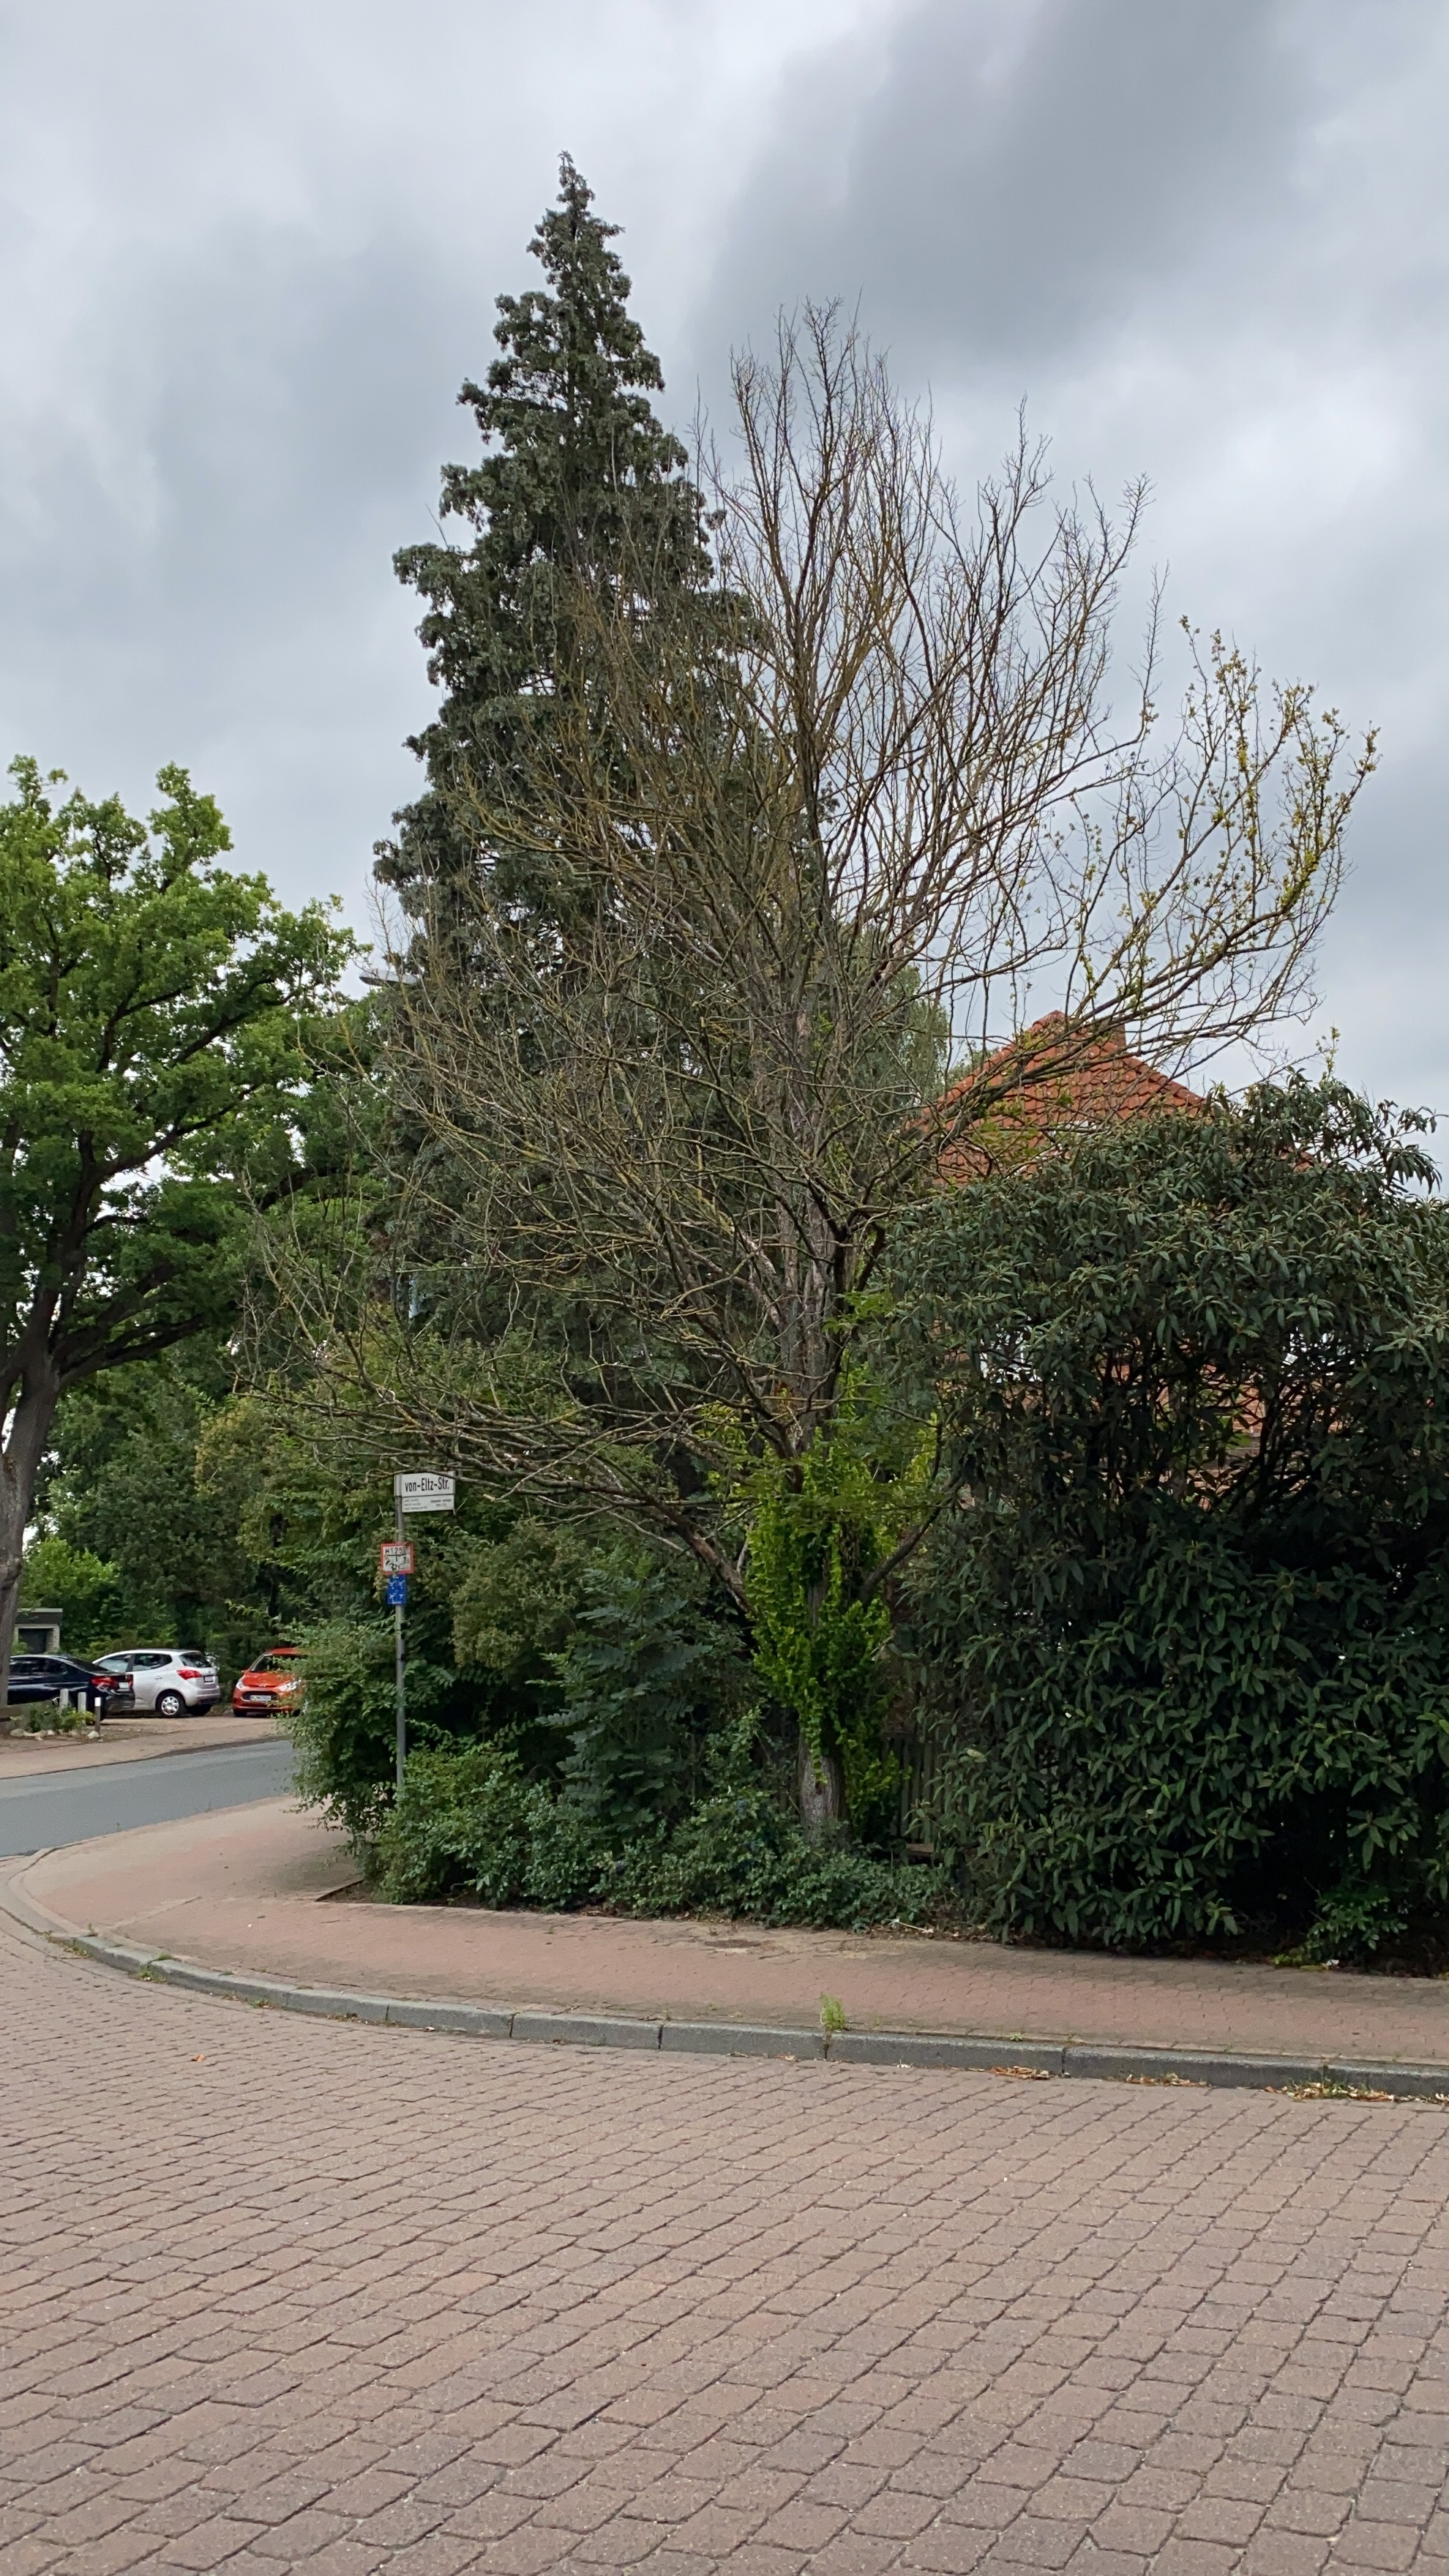tree: (221, 294, 1382, 1872), (373, 150, 929, 1405), (2, 750, 391, 1599)
